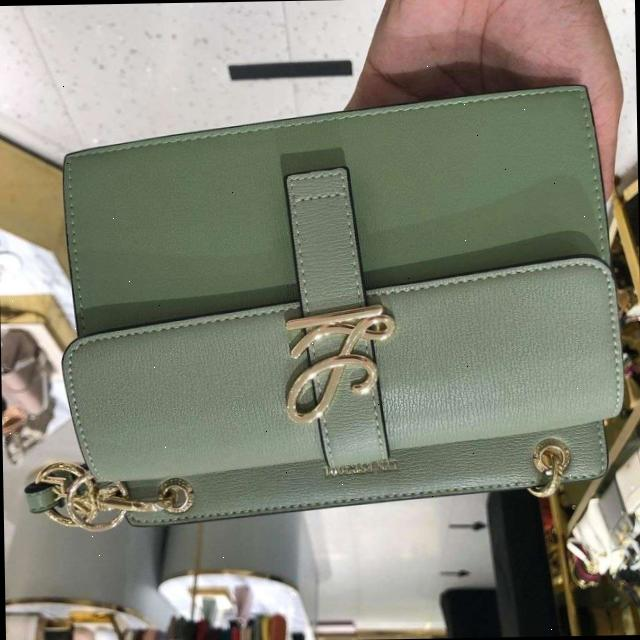Handbag: (0, 49, 619, 548)
